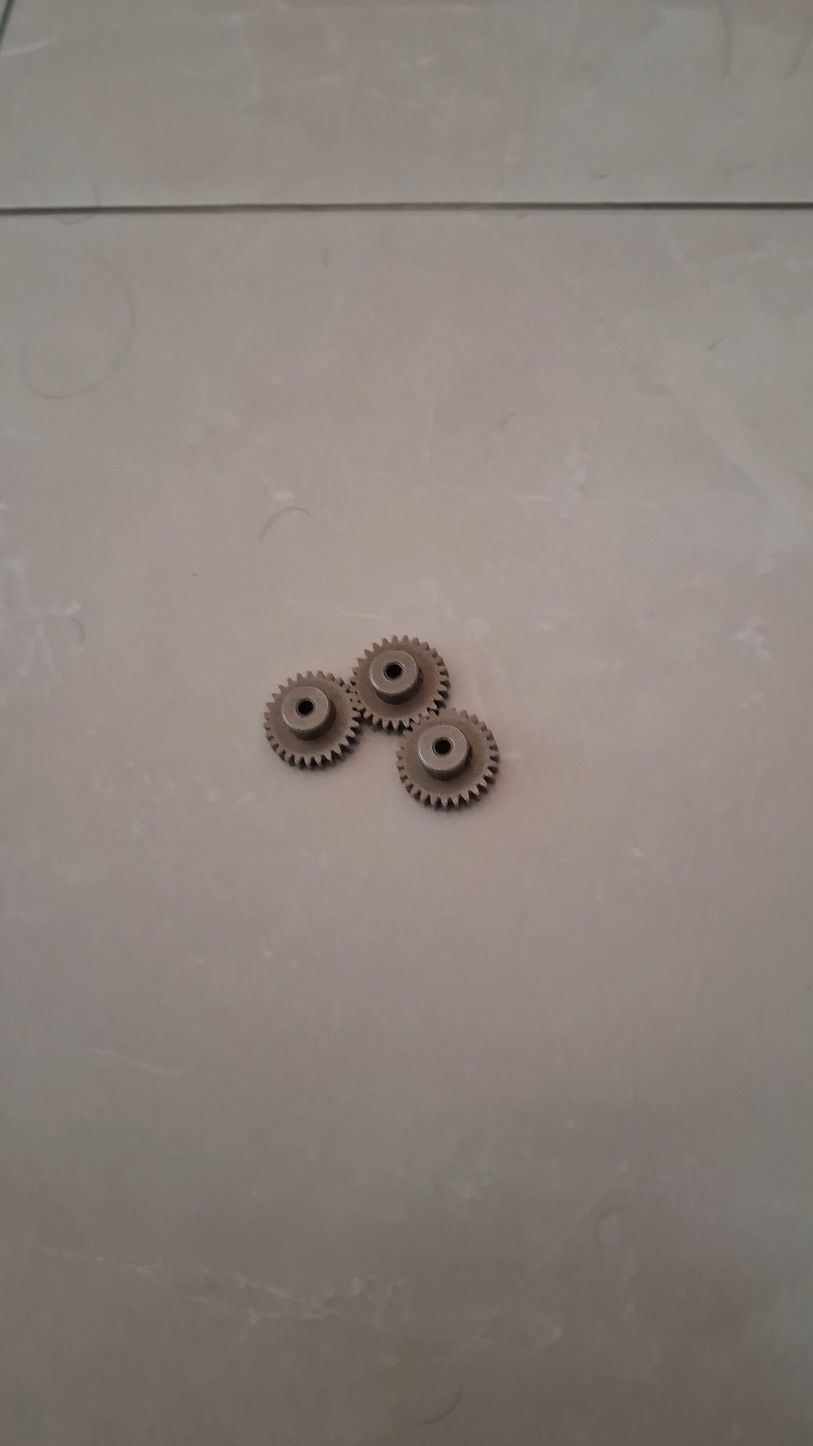spur gear: (397, 710, 498, 808), (265, 671, 361, 767), (352, 636, 449, 731)
